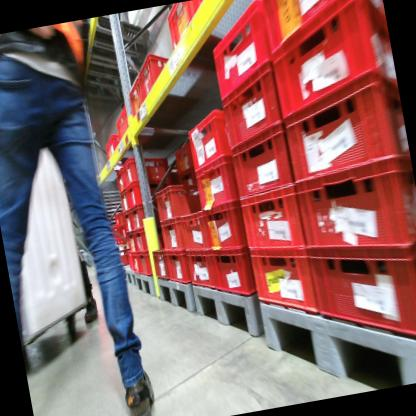pallet: (252, 269, 416, 407), (187, 270, 266, 354), (154, 270, 197, 322), (127, 267, 157, 300), (117, 259, 135, 291)
small_load_carrier: (261, 0, 401, 126), (280, 76, 412, 205), (288, 150, 416, 276), (305, 226, 416, 350), (201, 0, 282, 101), (215, 56, 290, 161), (260, 0, 388, 59), (246, 234, 319, 331), (229, 125, 294, 200), (237, 184, 303, 255), (184, 104, 242, 175), (191, 150, 248, 215), (201, 196, 255, 258), (136, 47, 182, 108), (210, 242, 255, 304), (163, 0, 211, 55), (151, 175, 203, 222), (119, 148, 174, 189), (113, 100, 155, 145), (179, 210, 214, 255), (120, 72, 148, 122), (167, 142, 196, 190), (184, 247, 216, 289), (163, 248, 194, 289), (158, 214, 186, 258), (125, 177, 161, 211), (130, 203, 156, 233), (152, 243, 172, 282), (100, 131, 123, 160), (137, 243, 157, 274), (131, 222, 152, 251), (124, 249, 142, 275), (114, 236, 130, 265), (112, 165, 128, 189), (122, 226, 135, 253), (118, 187, 131, 212), (123, 207, 134, 235), (111, 208, 126, 227), (108, 225, 126, 239)
